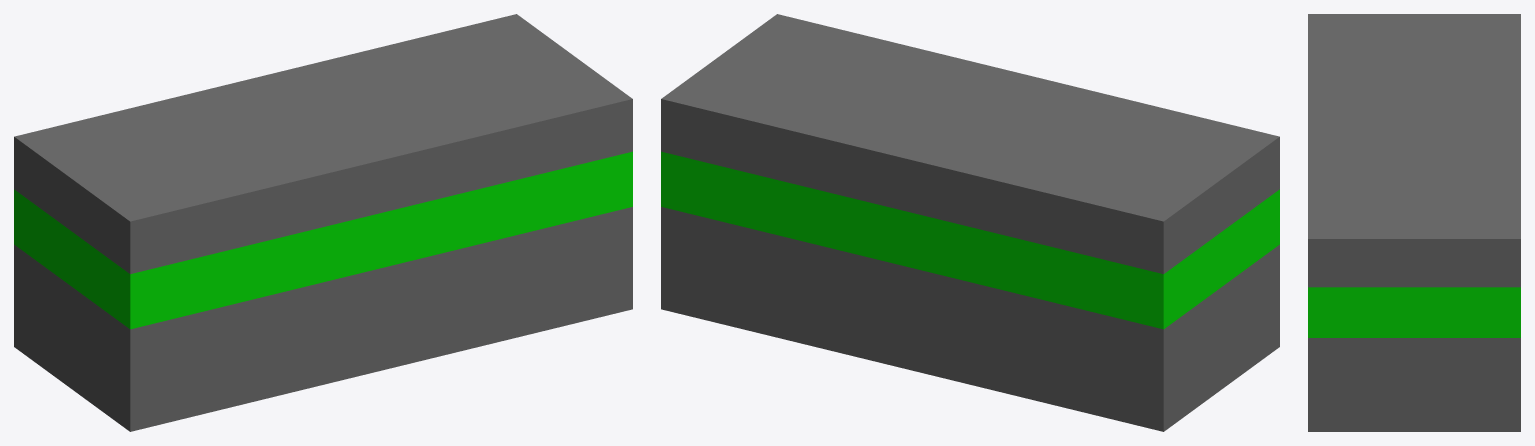
File: Sm_RectanglePlatform_Chonky1.fbx
3 renders of one model, left to right at view 1: azimuth 30°, elevation 25°; view 2: azimuth 150°, elevation 25°; view 3: azimuth 270°, elevation 25°, orthographic. The views are drawn at different scales.
Parts seen in each view (by area): view 1: pCube1; view 2: pCube1; view 3: pCube1.
Boxes of the visible parts, x1,y1,x2,y2 form: pCube1: (14, 14, 632, 431); pCube1: (661, 14, 1279, 431); pCube1: (1308, 14, 1520, 431).
Bounding box in the file's own units: 250 × 100 × 100.
